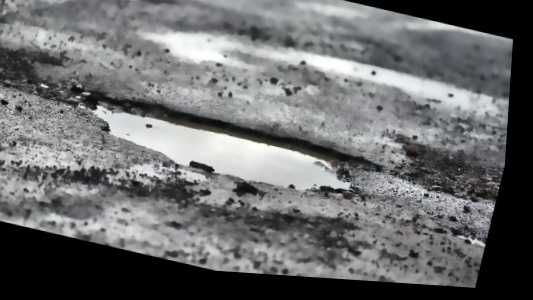pothole: (66, 83, 376, 208)
